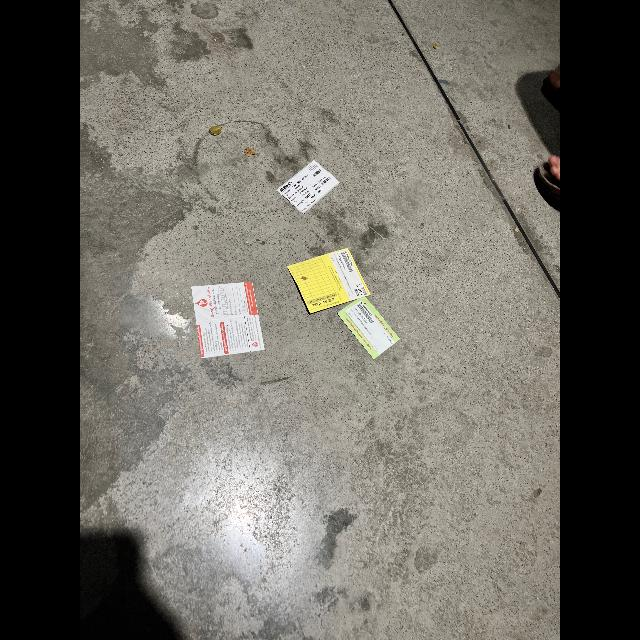scrap_paper: (284, 244, 380, 312), (192, 272, 262, 360), (272, 159, 342, 219), (338, 294, 396, 366)
